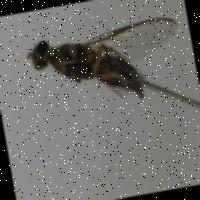Oriental-fruit-fly: (19, 4, 191, 126)
